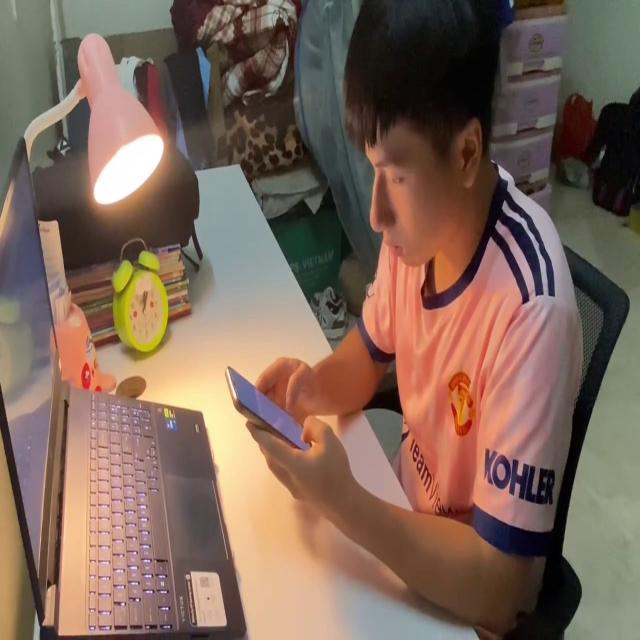laptop: (0, 129, 246, 640)
phone: (224, 358, 316, 459)
student: (246, 1, 589, 640)
